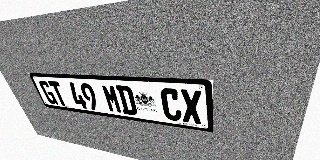4: (67, 82, 88, 109)
9: (79, 83, 100, 111)
C: (159, 88, 182, 122)
D: (115, 85, 138, 116)
G: (38, 80, 58, 105)
M: (101, 84, 123, 114)
T: (48, 81, 69, 106)
X: (180, 89, 202, 124)
